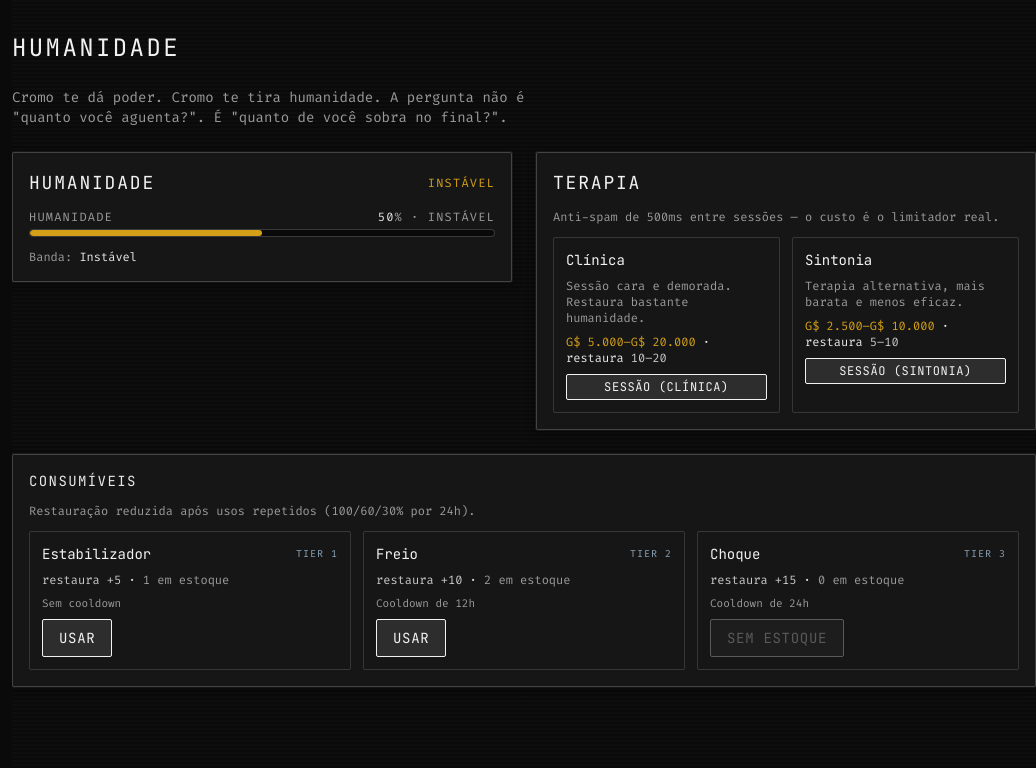
Test: HumanityView › should surface the therapy error
What coordinates should you click on to do the following:
click the button "Sessão (Clínica)"
I would click on:
 (666, 387)
Its box is left=566, top=374, right=767, bottom=400.
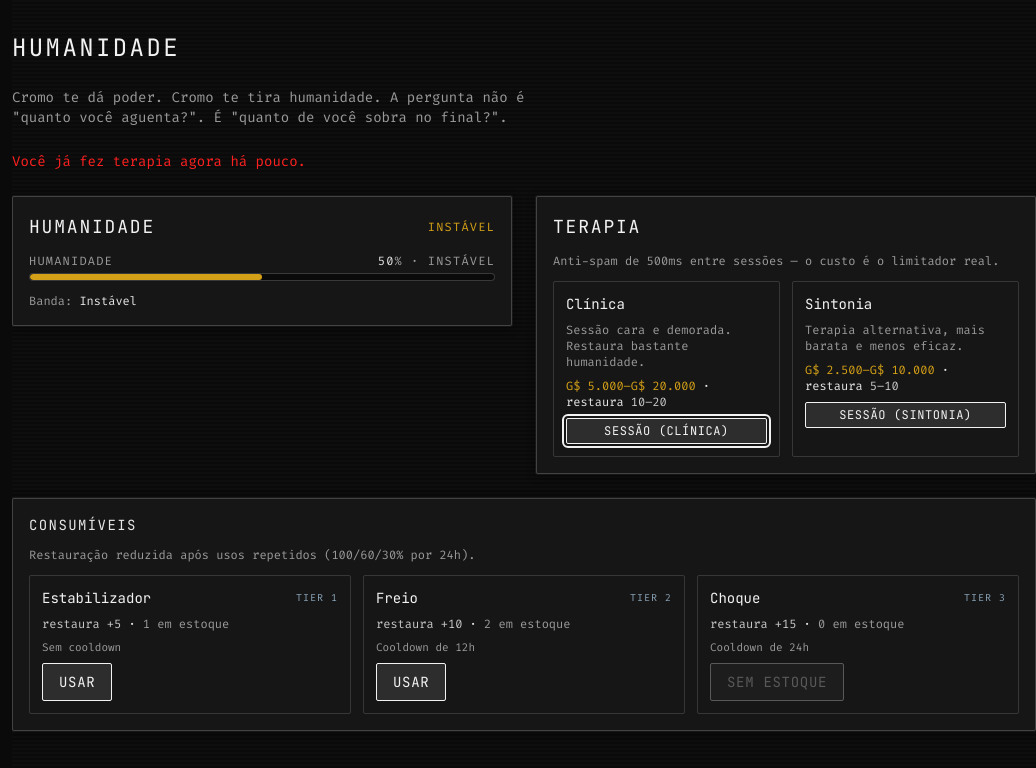
Now the text "Você já fez terapia agora há pouco." is shown, box left=12, top=152, right=306, bottom=171
